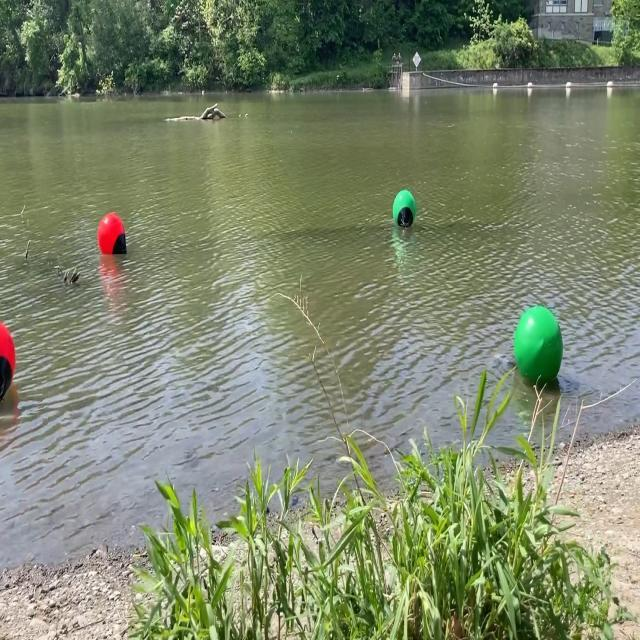buoy: (512, 306, 562, 382), (1, 316, 18, 410), (99, 214, 128, 257), (392, 190, 416, 227)
